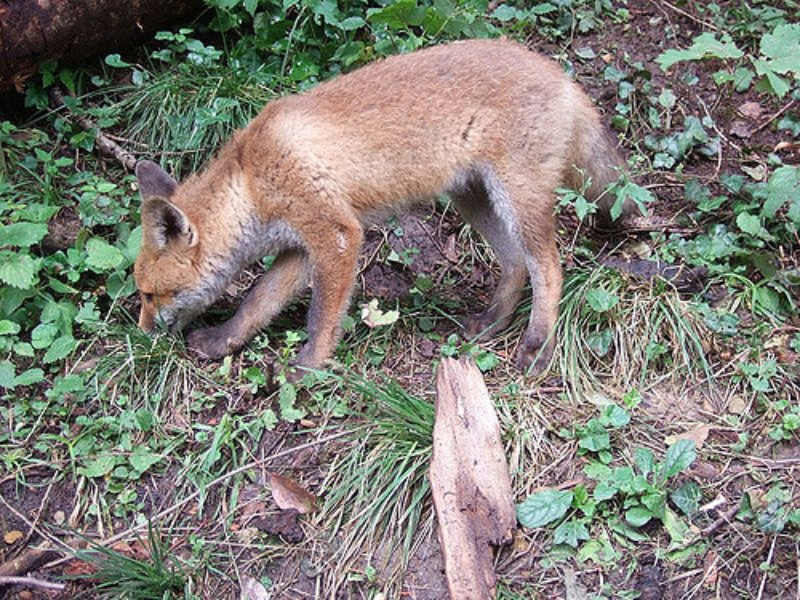fox: (119, 33, 640, 381)
